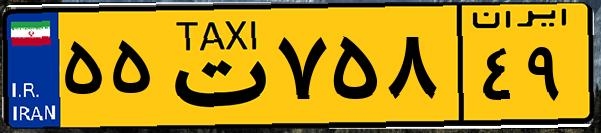4: (475, 38, 525, 113)
5: (330, 28, 385, 110), (57, 26, 110, 100), (110, 28, 158, 98)
7: (270, 28, 330, 110)
8: (385, 28, 445, 110)
9: (525, 38, 570, 115)
ت: (158, 12, 270, 120)
